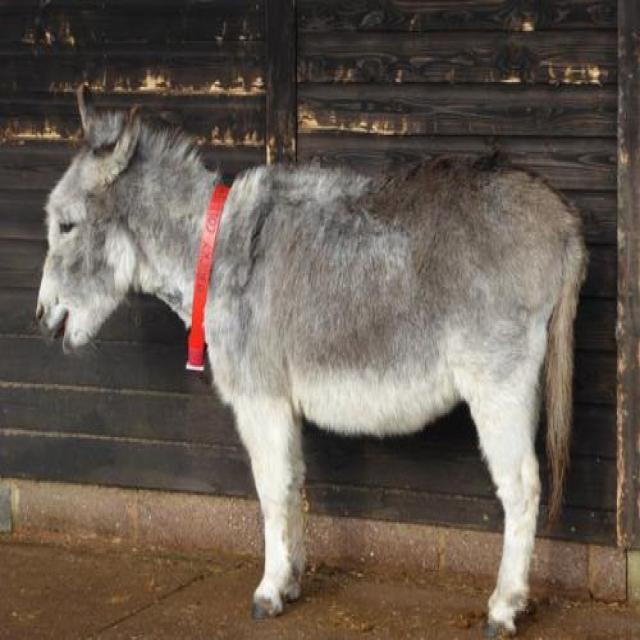Donkey: (35, 83, 586, 640)
